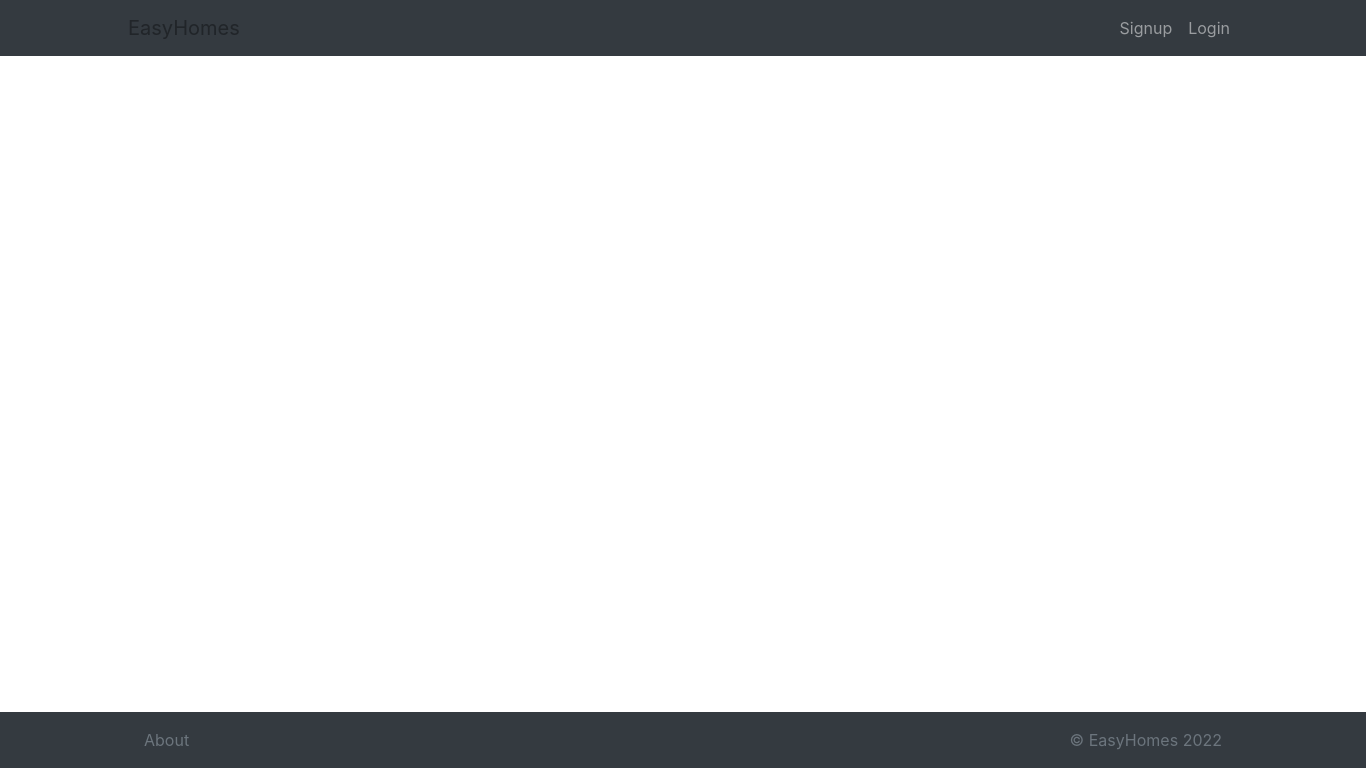
Test: Navigation › should navigate to the signup page
The width and height of the screenshot is (1366, 768).
Click the link "Signup": (1147, 28) [1120, 18, 1173, 38]
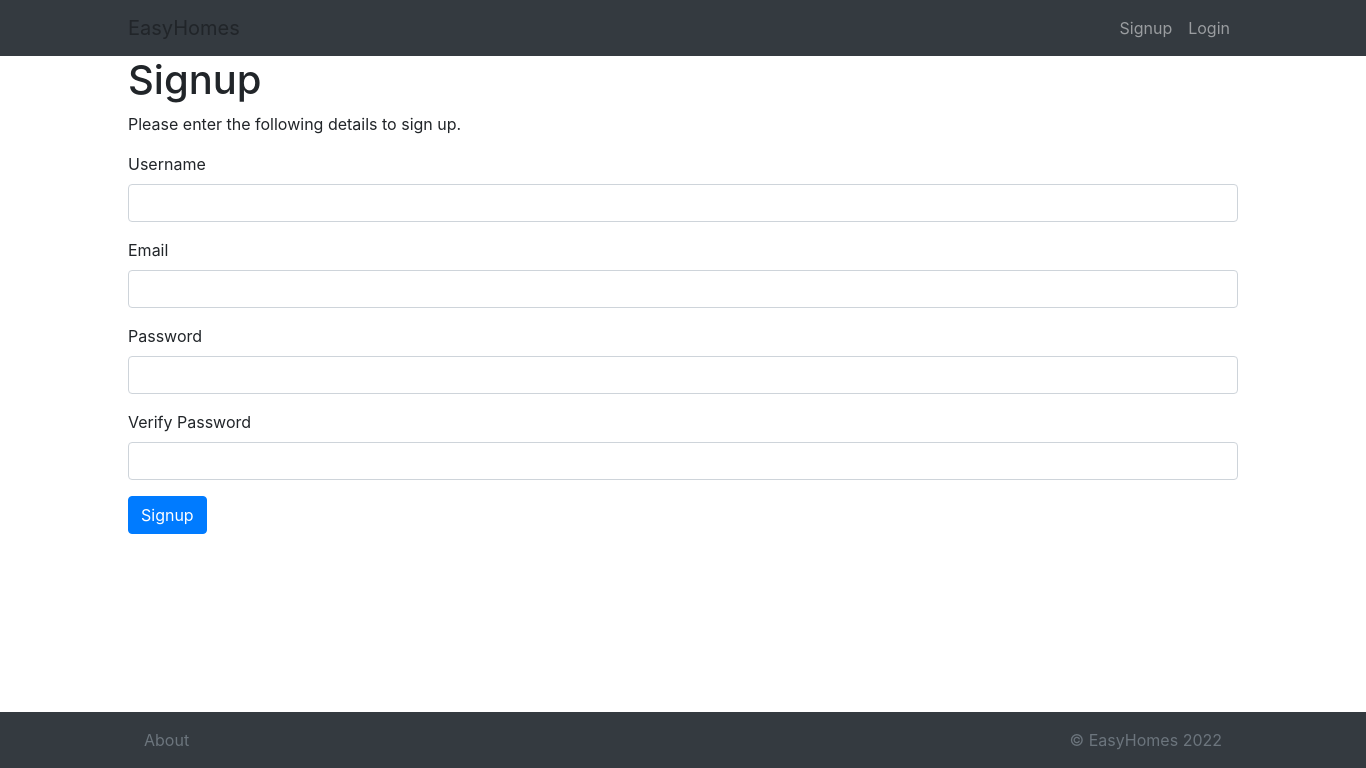
Expected: the heading "Signup" is shown, [128, 55, 262, 104]
